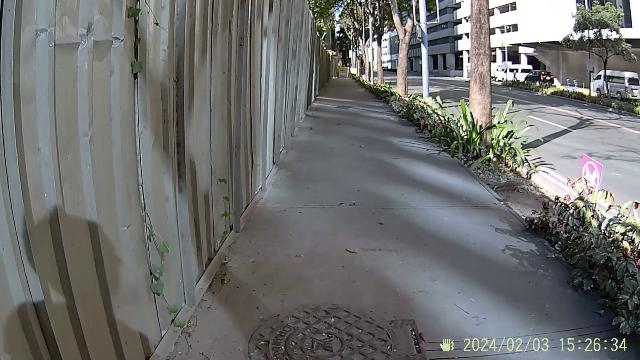tree: (468, 2, 498, 136), (584, 12, 620, 100), (389, 0, 417, 98)
utility_post: (415, 0, 433, 100)
